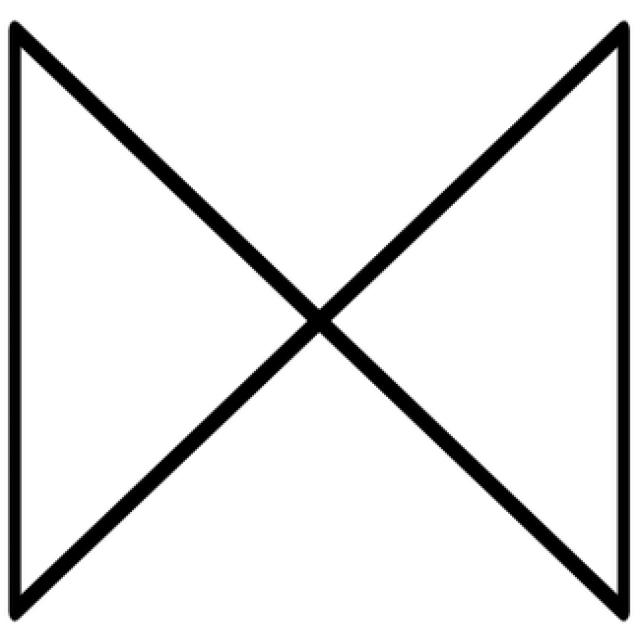Gate valve: (16, 29, 624, 610)
